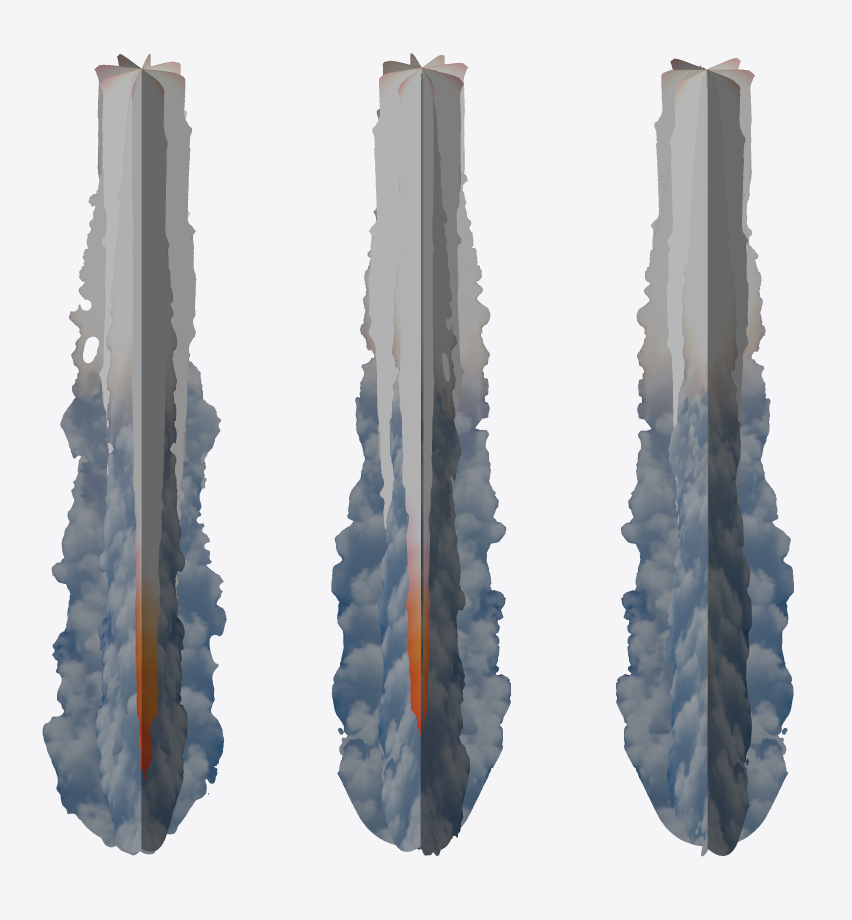
The model's file is combinaison de flammes image.dae.
3 views of the same model, side by side, from view 1: azimuth 30°, elevation 25°; view 2: azimuth 150°, elevation 25°; view 3: azimuth 270°, elevation 25° (orthographic).
Parts seen in each view (by area): view 1: skpE6A7 (×3), image_1, image_2, image_3, image_0; view 2: skpE6A7 (×3), image_1, image_3, image_2, image_0; view 3: skpE6A7 (×3), image_3, image_2, image_1.
Part boxes in pixels (x1,y1,x2,y2): skpE6A7 (×3): (42, 64, 226, 855); image_1: (117, 54, 169, 788); image_2: (94, 64, 196, 599); image_3: (131, 54, 150, 786); image_0: (99, 61, 189, 768); skpE6A7 (×3): (331, 68, 510, 855); image_1: (397, 55, 444, 736); image_3: (368, 63, 467, 529); image_2: (410, 53, 434, 728); image_0: (373, 60, 464, 481); skpE6A7 (×3): (616, 65, 793, 856); image_3: (670, 58, 748, 768); image_2: (666, 58, 740, 532); image_1: (650, 69, 754, 249).
Bounding box in the file's own units: 3287 × 3287 × 11046.
Materials: 3 (3 with a texture image).
